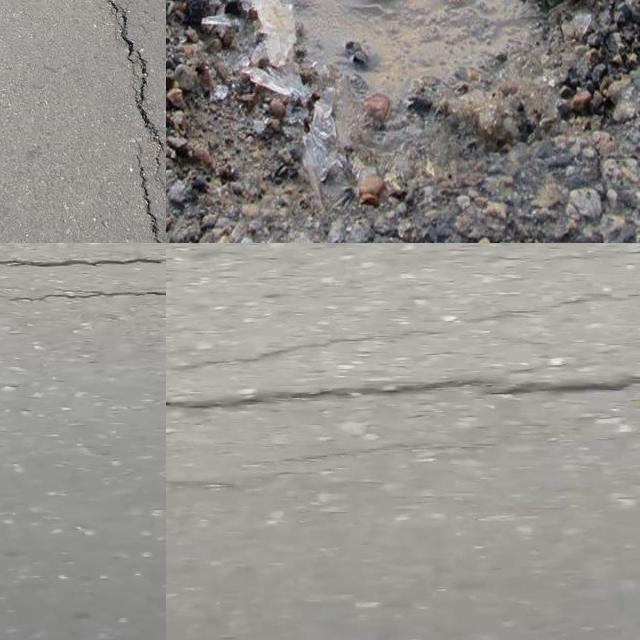Lubang: (166, 0, 640, 210)
Melintang: (166, 358, 640, 425), (0, 243, 166, 316)
Memanjang: (82, 0, 166, 243)
